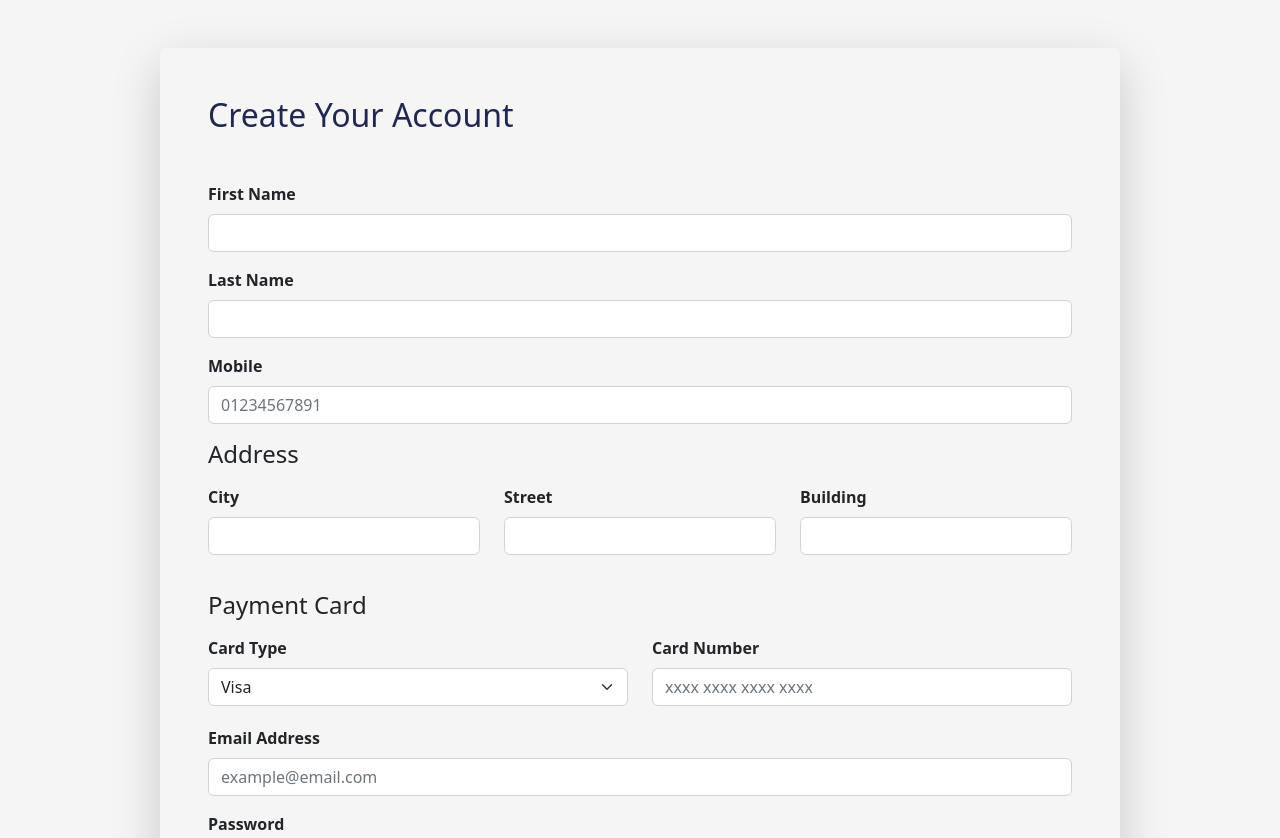
Scenario: should be a valid email error
The width and height of the screenshot is (1280, 838).
Type "mohamed.com" into the field labelled "Email Address". click: (640, 777)
box: [208,758,1072,796]
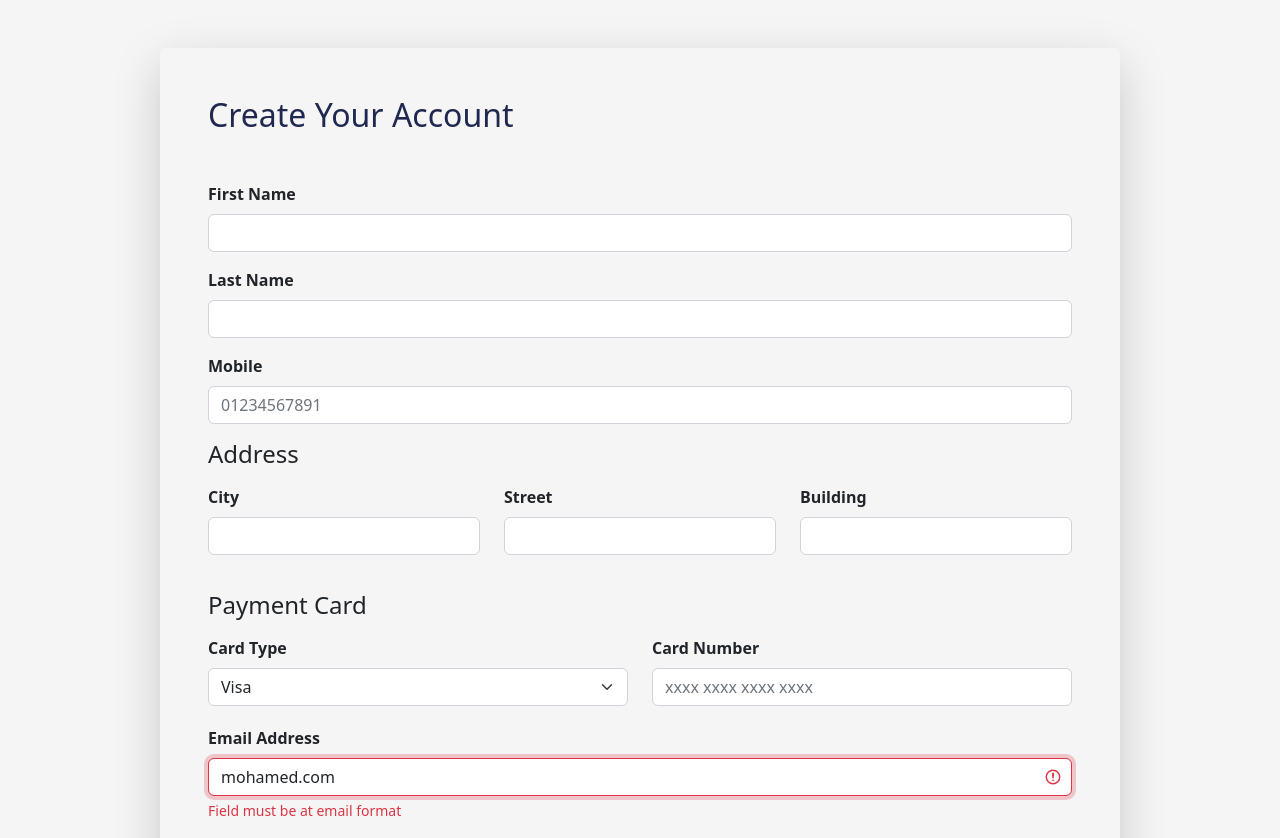
Expected: the text "Field must be at email format" is shown, [208,801,401,820]
